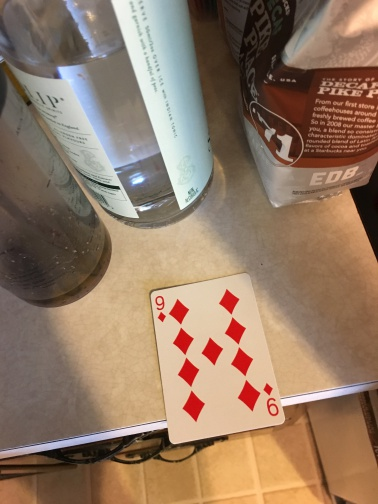nine: (150, 271, 285, 444)
